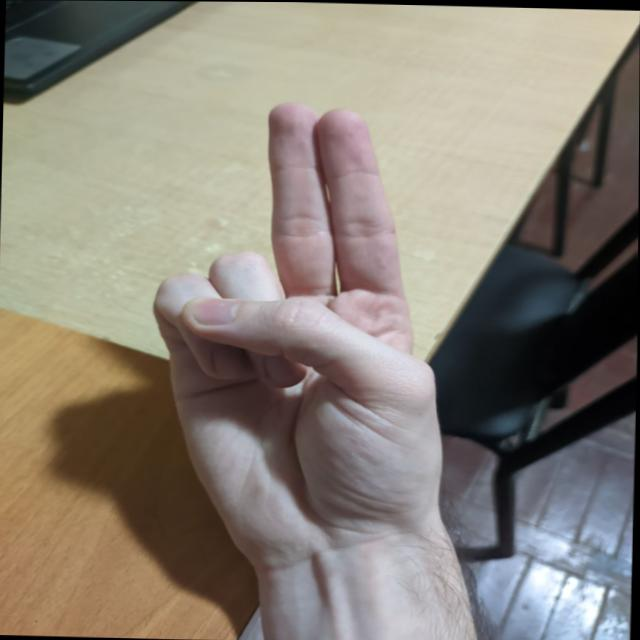ts: (157, 89, 467, 552)
